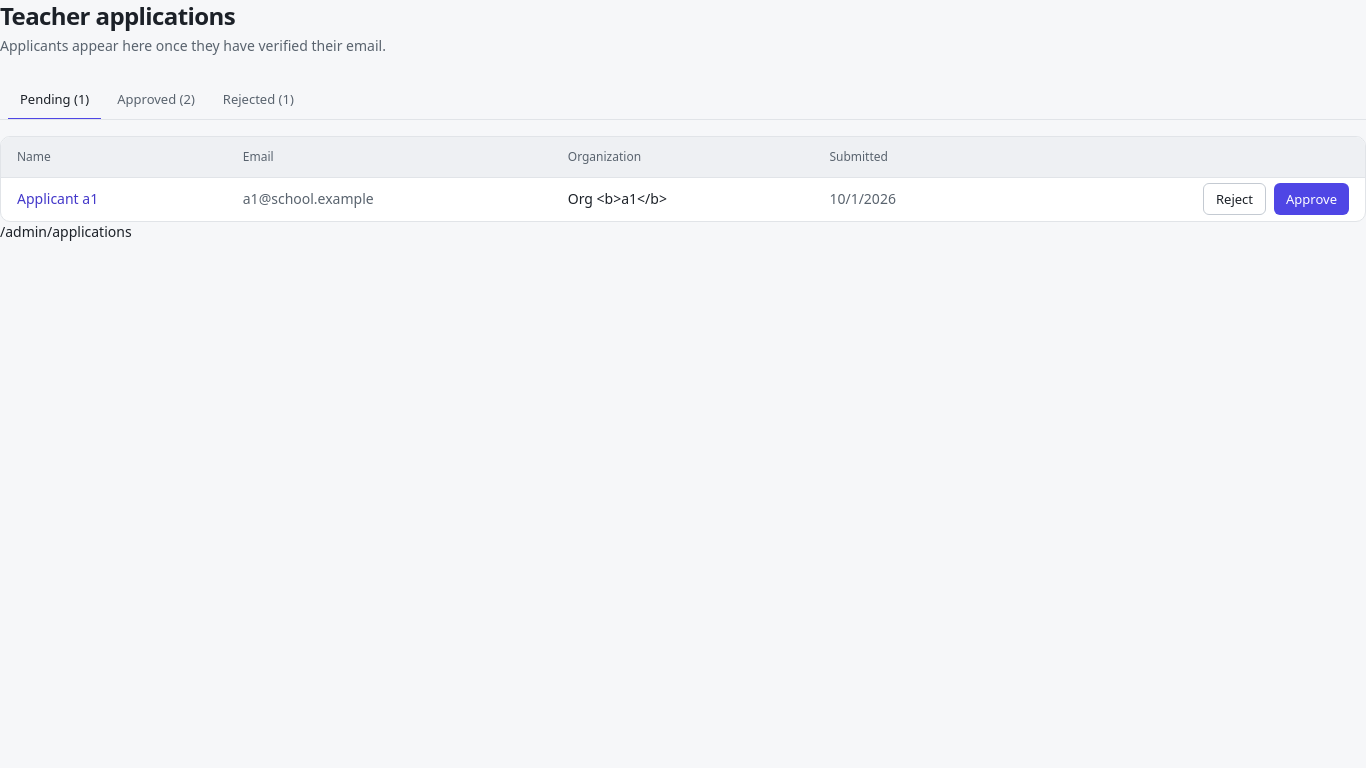
it: applications queue › opens an application, shows the whole note as text, and approves after a confirmation that says what happens
Click the button with aria-label "Open application from Applicant a1".
click(58, 199)  # box 17,189 -> 98,209
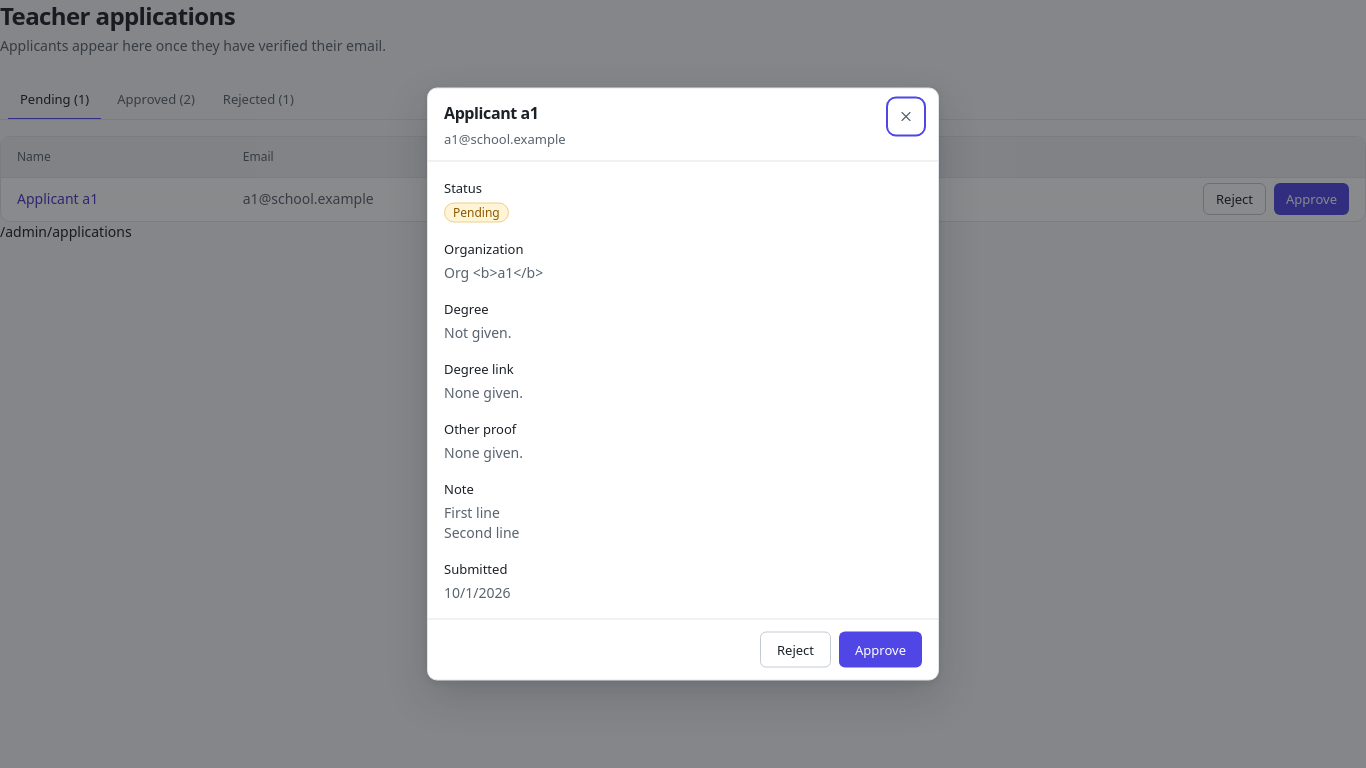
Check: the text "First line Second line" is shown, box 444,502 -> 520,542
Check: the text "a1@school.example" is shown, box 444,128 -> 566,148
Click the button "Approve".
click(880, 650)  # box 839,632 -> 922,668
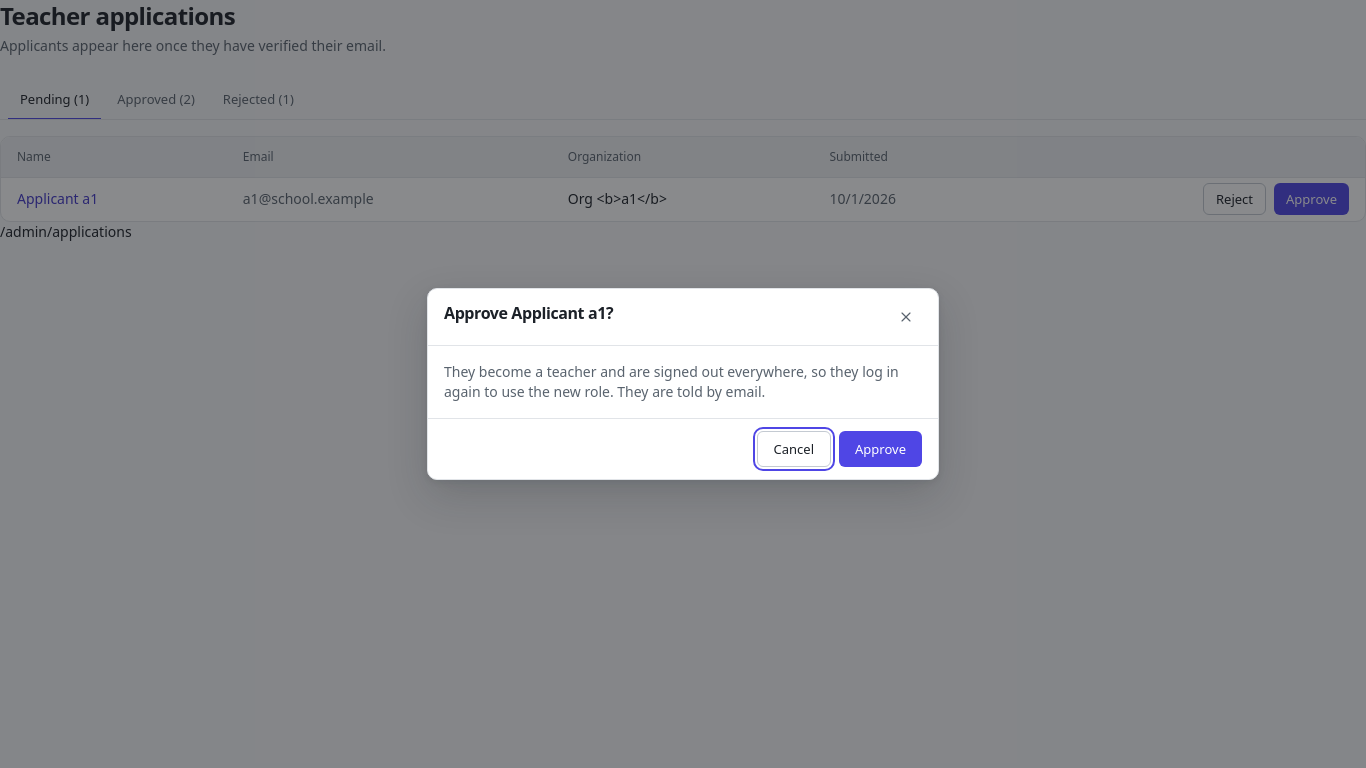
Check: the dialog shows "They become a teacher and are signed out everywhere", box 444,362 -> 899,401
Click the button "Approve".
click(880, 449)  # box 839,431 -> 922,467
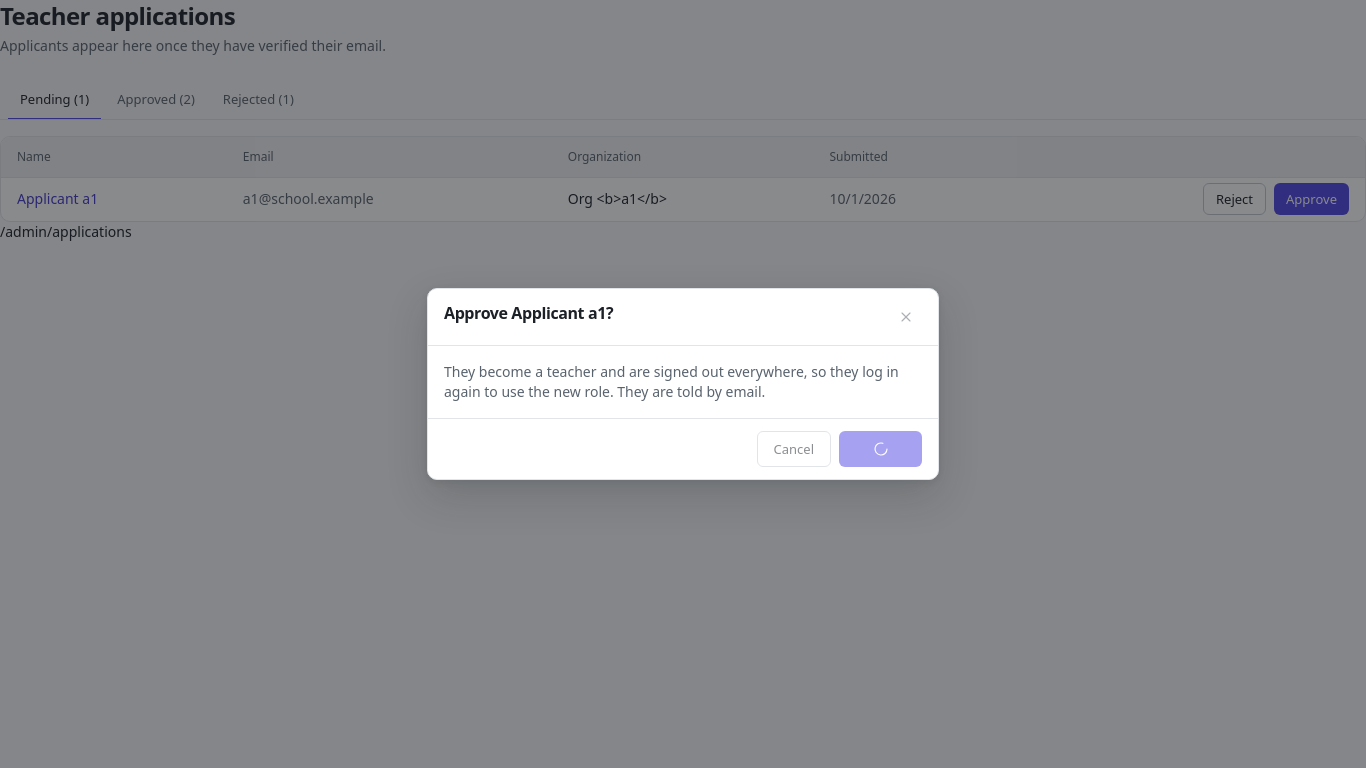
Click the button named "Approve".
click(880, 449)  # box 839,431 -> 922,467
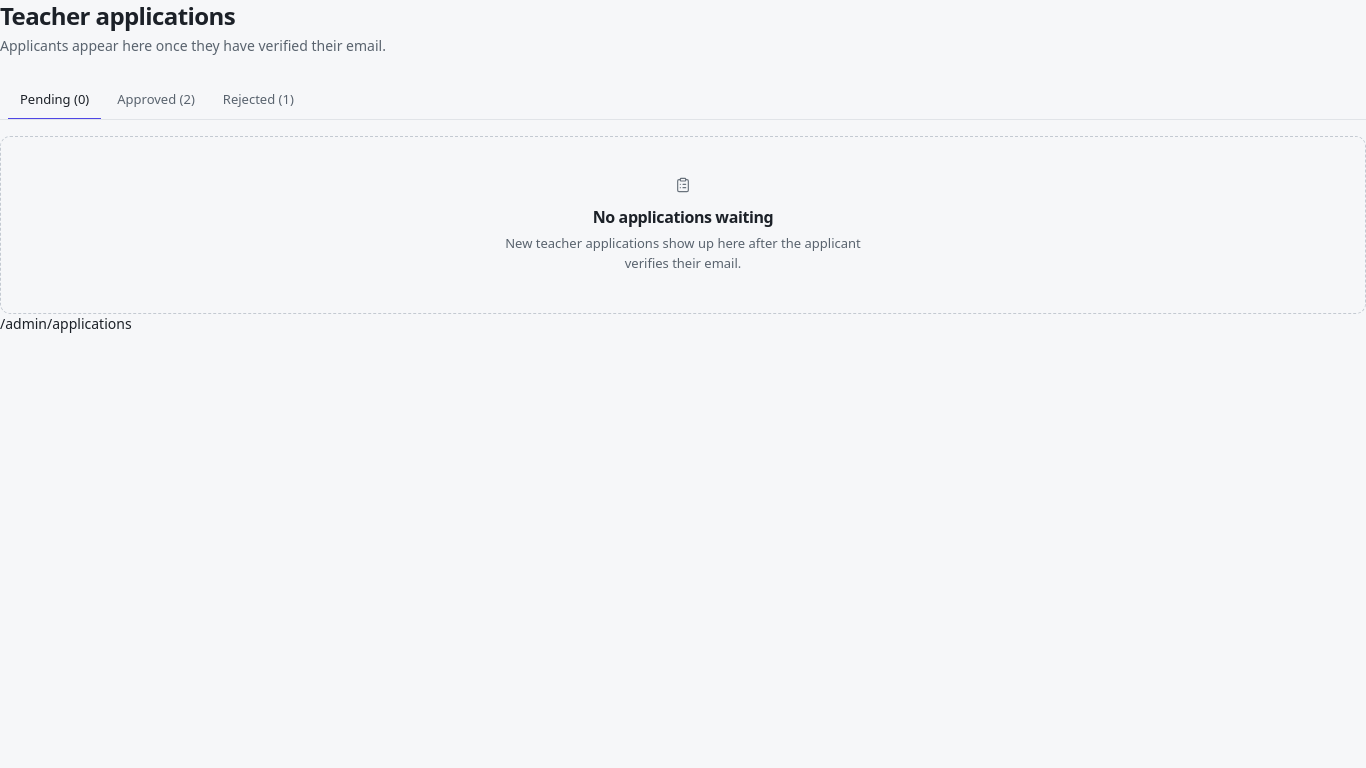
Check: the heading "No applications waiting" is shown, box 593,205 -> 773,229
